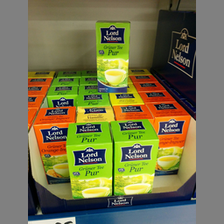tea: (64, 121, 114, 197), (112, 119, 159, 197), (33, 106, 75, 183), (148, 104, 191, 176), (96, 20, 131, 93)
